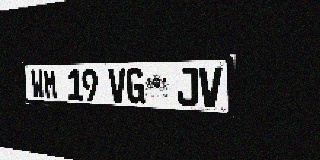1: (67, 69, 83, 101)
9: (81, 69, 99, 102)
G: (126, 68, 145, 104)
J: (176, 67, 198, 107)
M: (43, 69, 58, 100)
V: (199, 67, 222, 108), (108, 68, 127, 103)
W: (30, 69, 45, 99)
